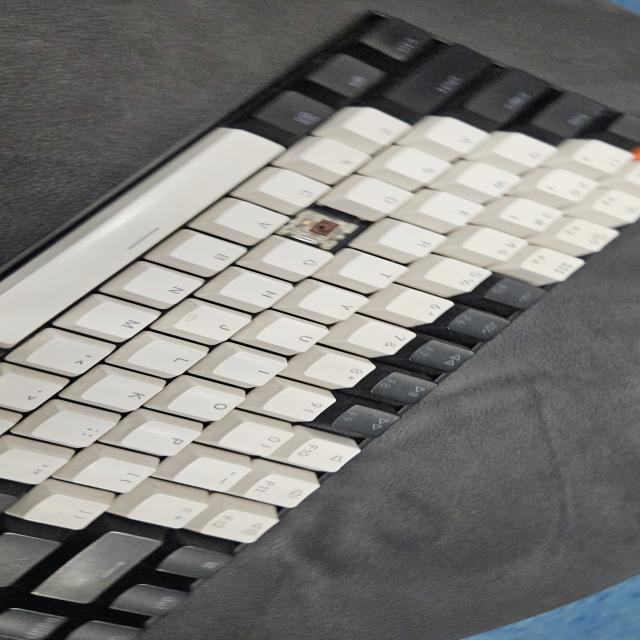C: (298, 216, 344, 240)
